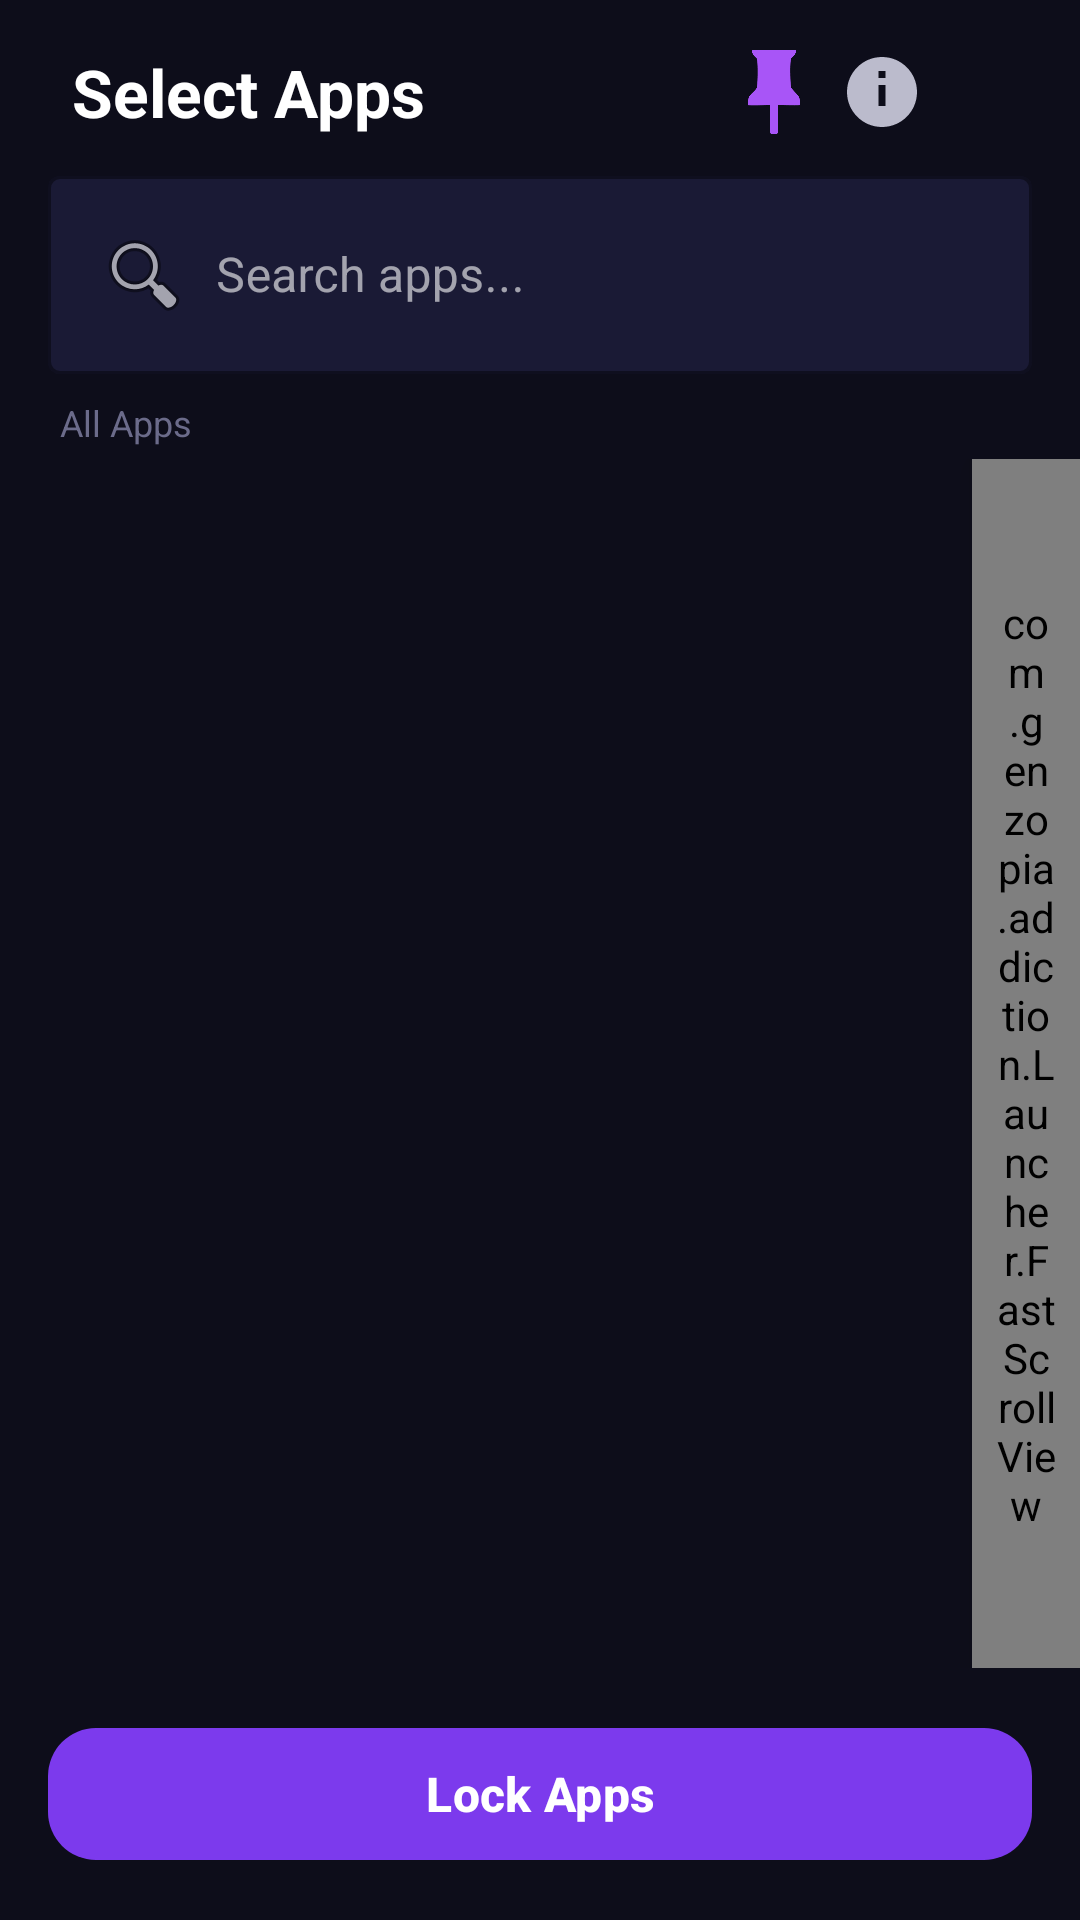

Where icons sit on this 1080w x 1920h app screen, as (x1, y1, x2, y2):
How to use: (847, 57, 917, 127)
Pin: (748, 50, 800, 134)
